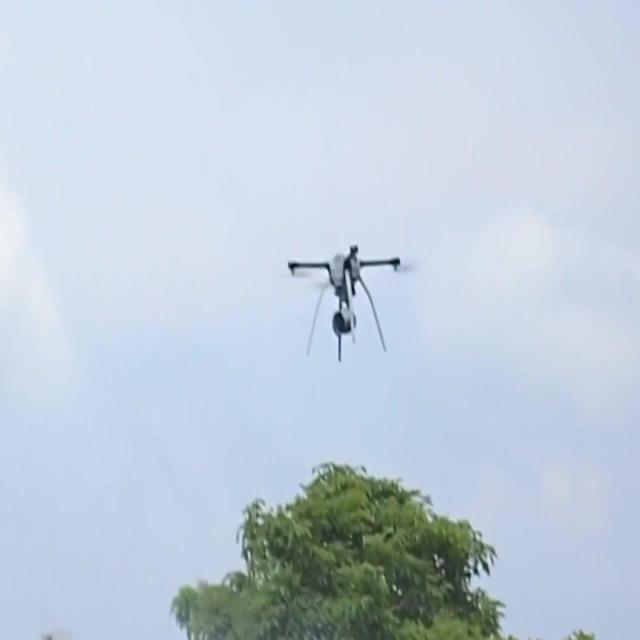drone: (284, 240, 402, 364)
